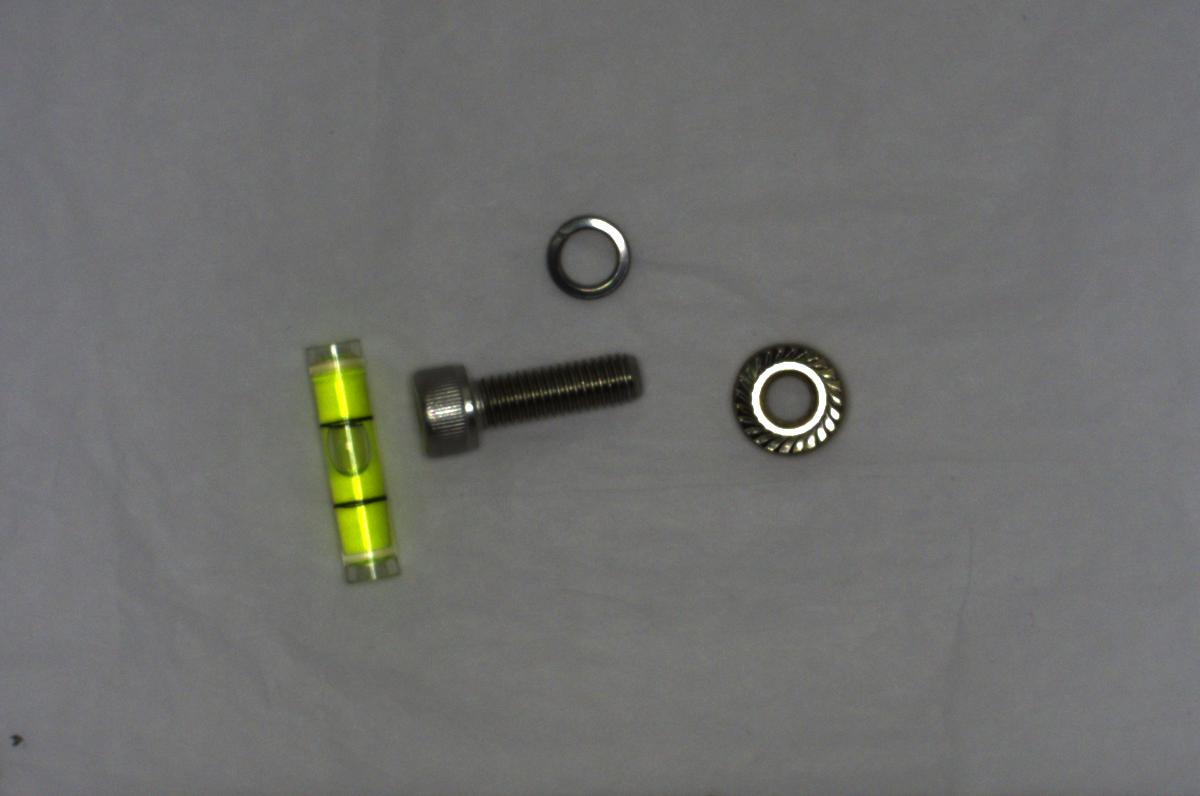Flange nut: (715, 332, 851, 468)
Hexagon screw: (408, 346, 652, 461)
Horizontal bubble: (299, 332, 401, 590)
Spring washer: (539, 208, 635, 303)
